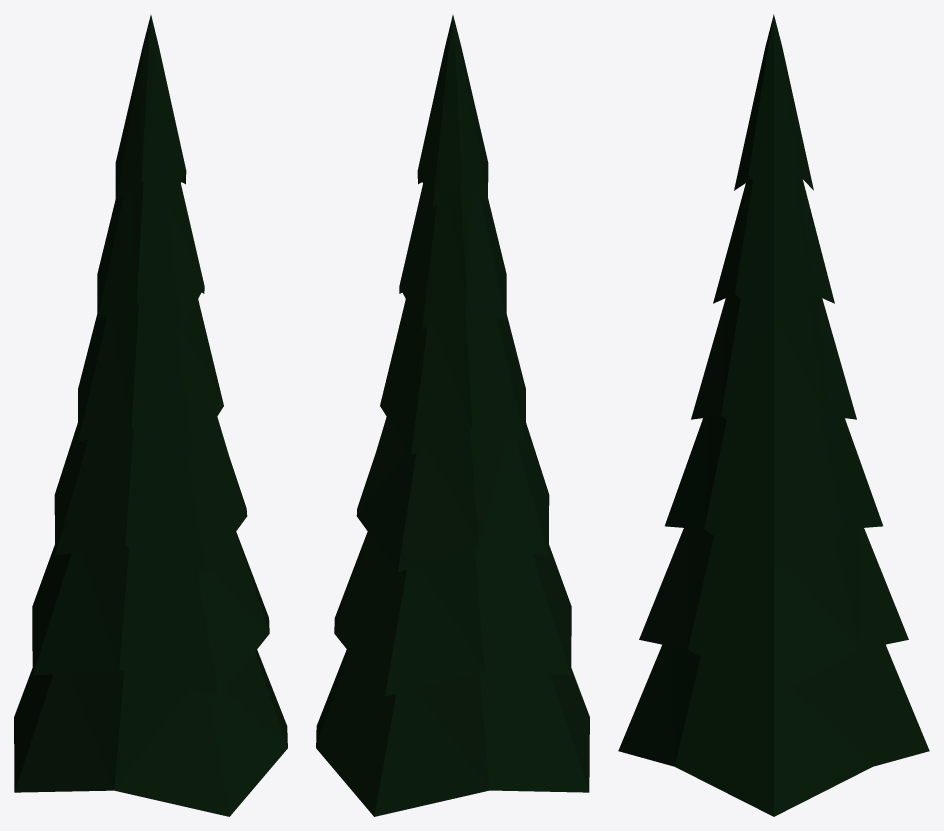
Rendered from tanne12.dae.
The picture shows the model from 3 angles, left to right: view 1: azimuth 30°, elevation 25°; view 2: azimuth 150°, elevation 25°; view 3: azimuth 270°, elevation 25°; orthographic projection.
Visible parts, largest first — view 1: Tanne1; view 2: Tanne1; view 3: Tanne1.
Boxes of the visible parts, <box> form: Tanne1: <box>14,15,287,816</box>; Tanne1: <box>316,15,589,816</box>; Tanne1: <box>618,14,929,816</box>.
Size of the model in its own units: 3.8 by 3.8 by 10.17.
